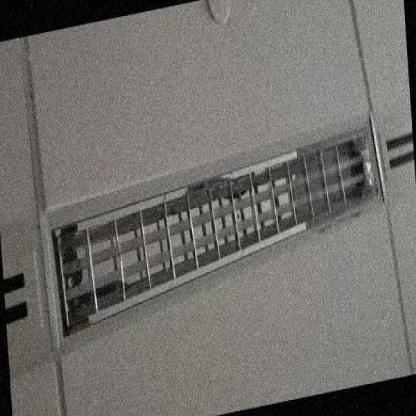light_off: (36, 106, 395, 352)
